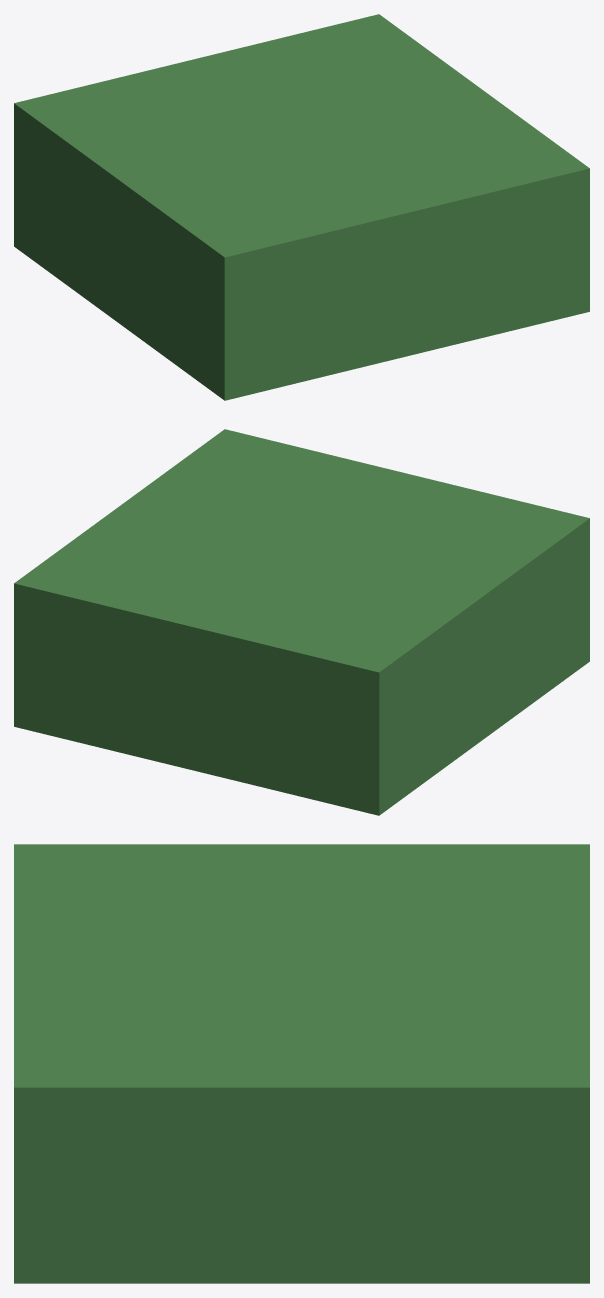
The model's file is EmptySpace.fbx.
3 views of the same model, one above another, from view 1: azimuth 30°, elevation 25°; view 2: azimuth 150°, elevation 25°; view 3: azimuth 270°, elevation 25° (orthographic). The views are drawn at different scales.
Parts seen in each view (by area): view 1: Cube.008; view 2: Cube.008; view 3: Cube.008.
Boxes of the visible parts, x1,y1,x2,y2 form: Cube.008: (14, 14, 589, 400); Cube.008: (14, 429, 589, 815); Cube.008: (14, 844, 589, 1283).
Size of the model in its own units: 400 by 150 by 400.
